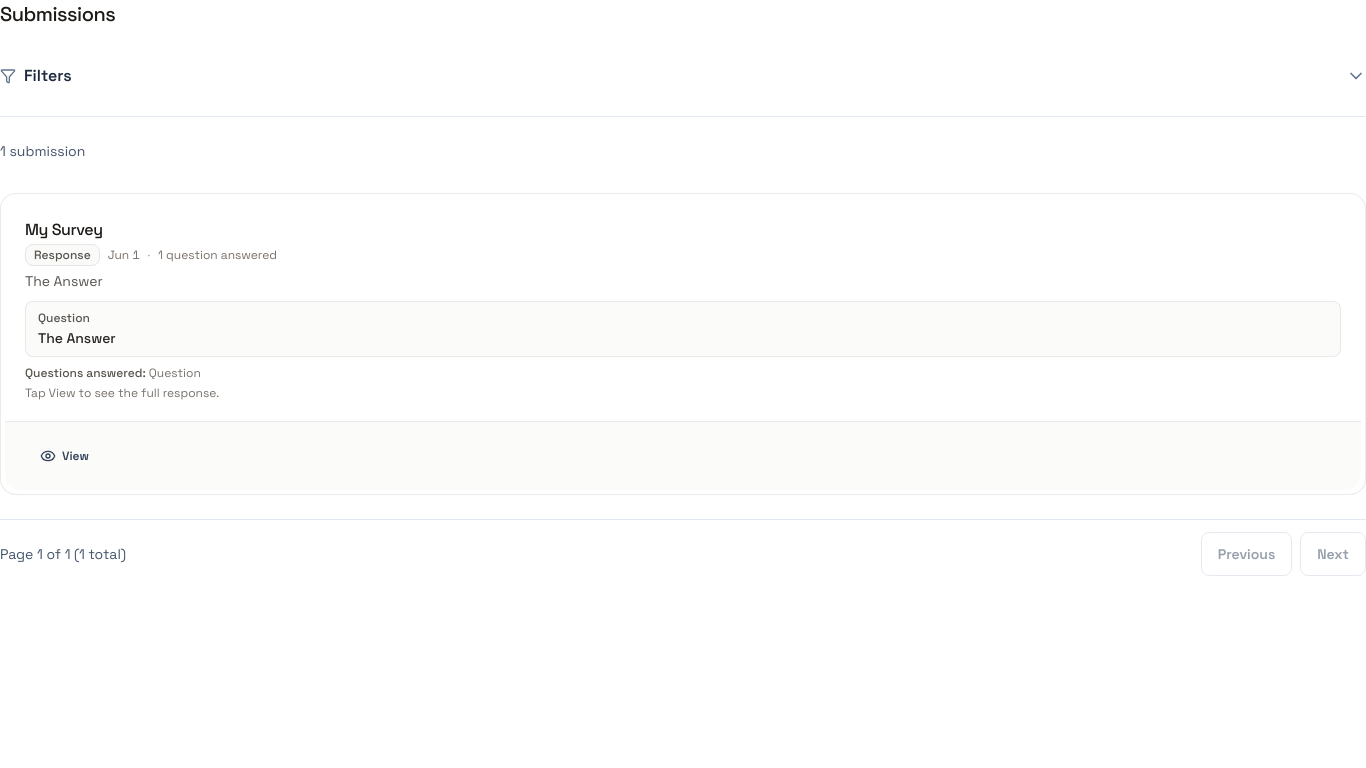
Test case: SubmissionsPage › shows table when submissions exist and View opens modal
Step 1. Click the button "View" → point(64, 456), box [25,438,104,474]
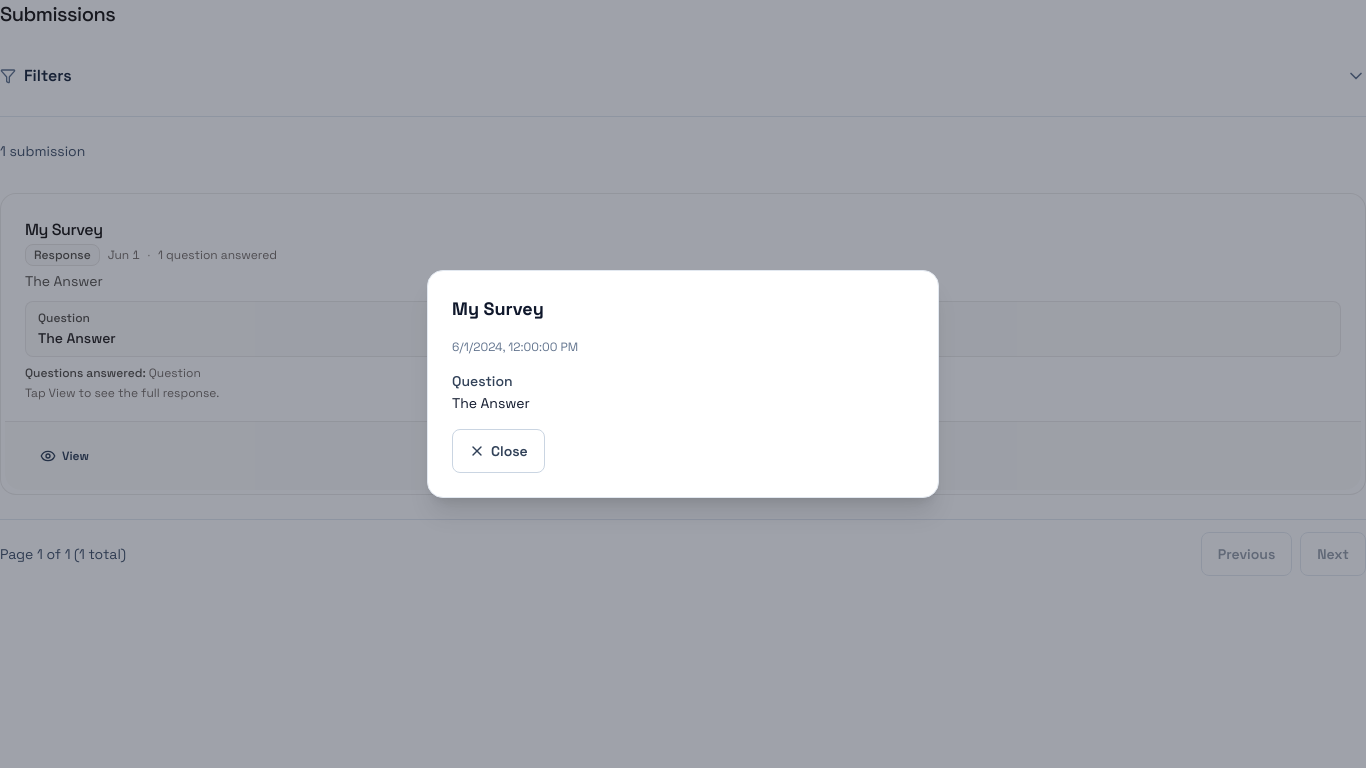
Now the button "Close" is shown
# Dismiss via Close button
Step 2. Click the button "Close" → point(498, 451), box [452,429,545,473]
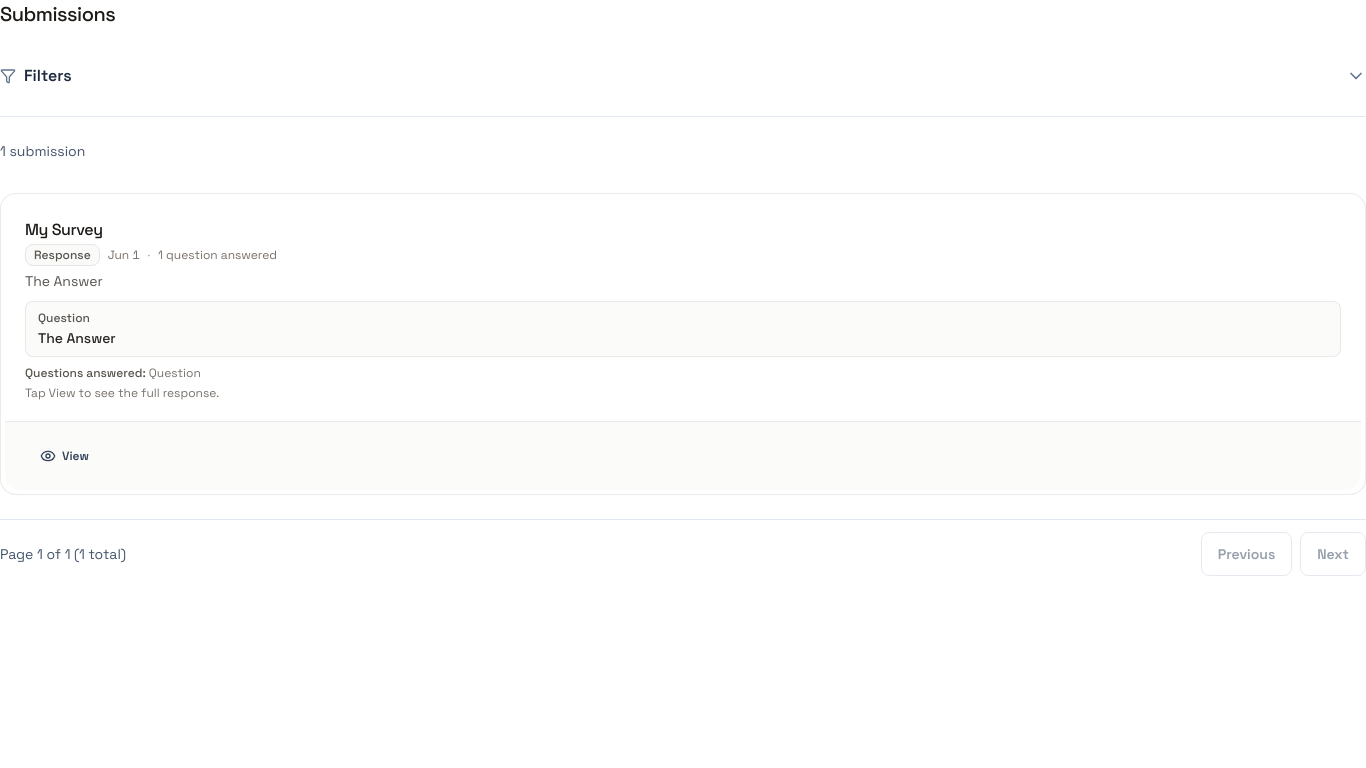
Now the button "Close" is gone
